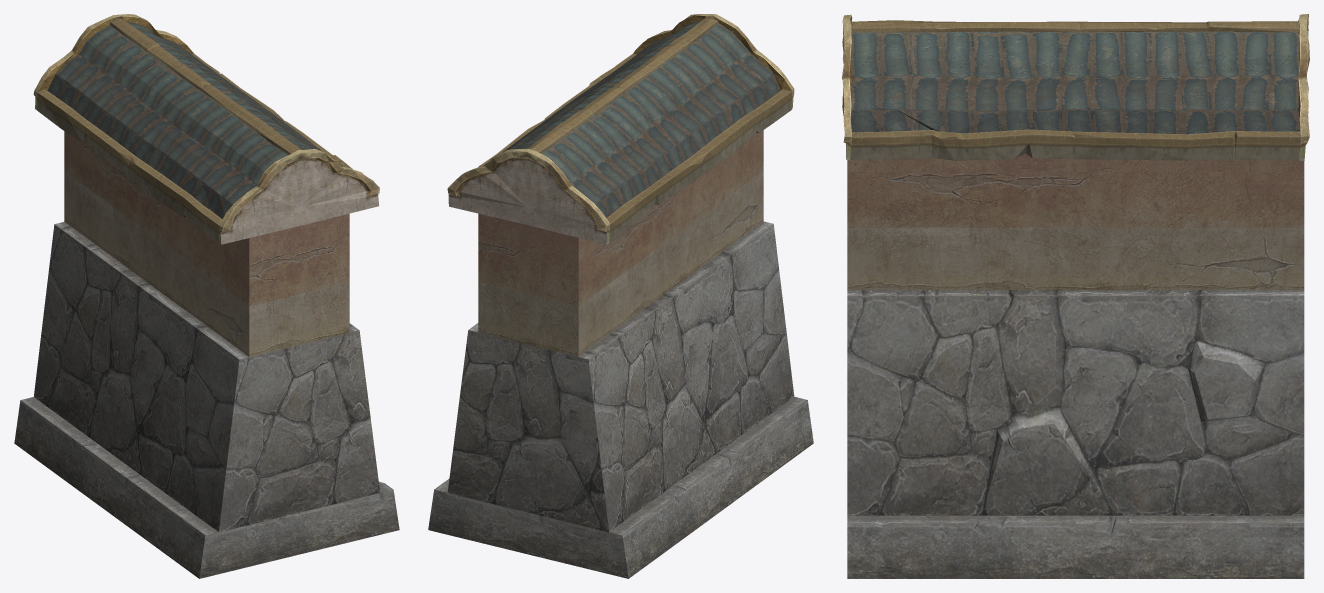
The model's file is bg_anh_mirrorv_bm01_06_sm_old.FBX.
The picture shows the model from 3 angles, left to right: view 1: azimuth 30°, elevation 25°; view 2: azimuth 150°, elevation 25°; view 3: azimuth 270°, elevation 25°; orthographic projection. The views are drawn at different scales.
Visible parts, largest first — view 1: bg_anh_mirrorv_bm01_06_sm_old; view 2: bg_anh_mirrorv_bm01_06_sm_old; view 3: bg_anh_mirrorv_bm01_06_sm_old.
Part boxes in pixels (left/top/right/bottom): bg_anh_mirrorv_bm01_06_sm_old: left=14, top=14, right=399, bottom=578; bg_anh_mirrorv_bm01_06_sm_old: left=428, top=14, right=813, bottom=578; bg_anh_mirrorv_bm01_06_sm_old: left=842, top=14, right=1309, bottom=578.
Size of the model in its own units: 160 by 308 by 262.
